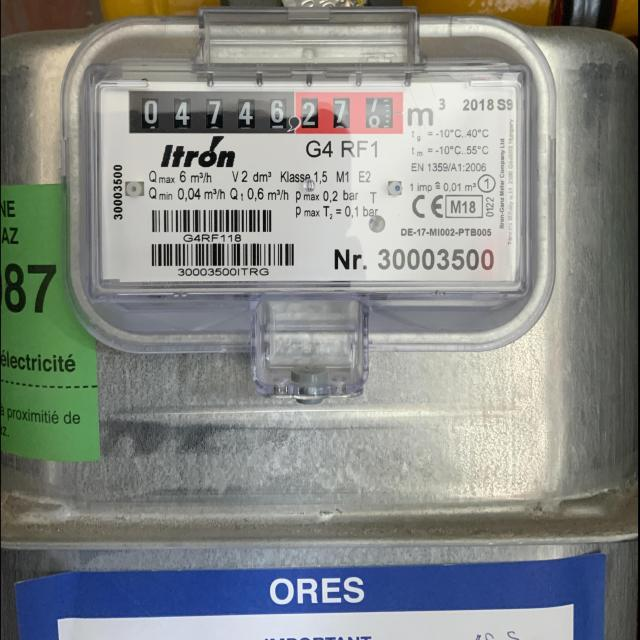gaz_meter: (91, 73, 523, 292)
indication: (126, 90, 402, 137)
